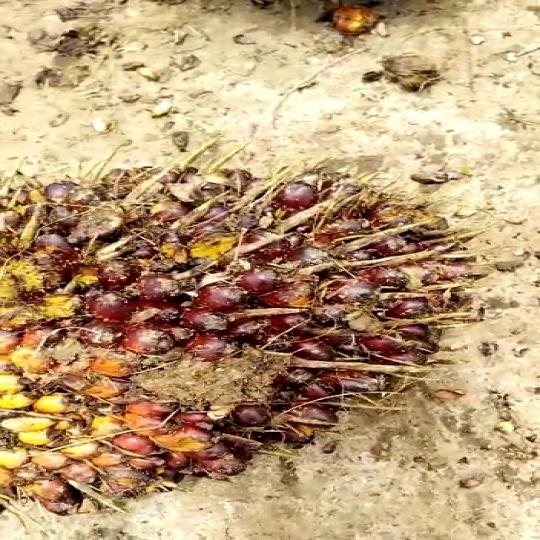masak: (0, 164, 479, 516)
